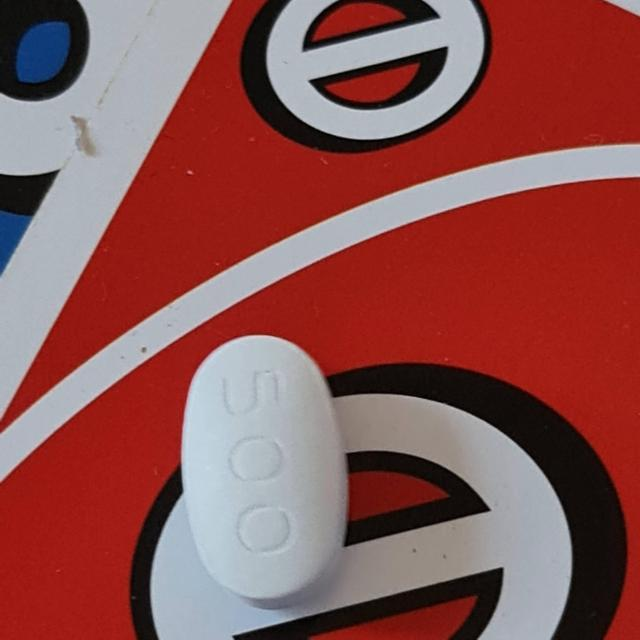pill: (183, 338, 339, 599)
